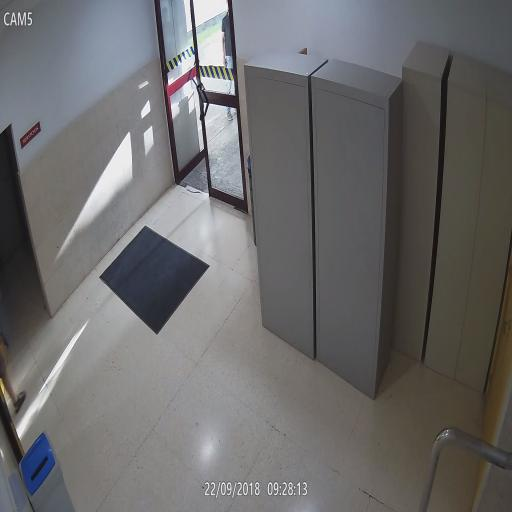Handgun: (0, 331, 10, 351)
